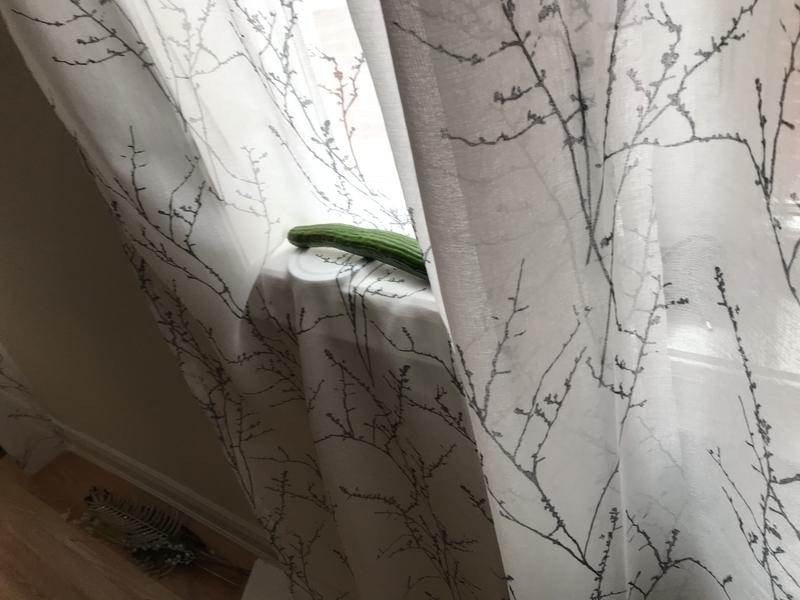cucumber: (275, 212, 457, 294)
